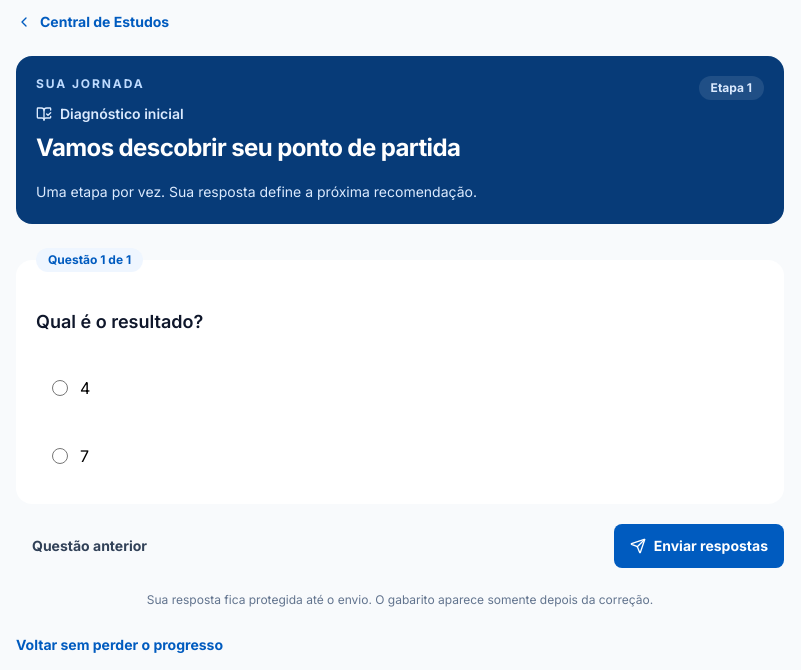
Scenario: GuidedJourneyPage › keeps the correction visible when the completed session is invalidated
Click the radio button labelled "7".
click(60, 456)  # box x1=52 y1=448 x2=68 y2=464
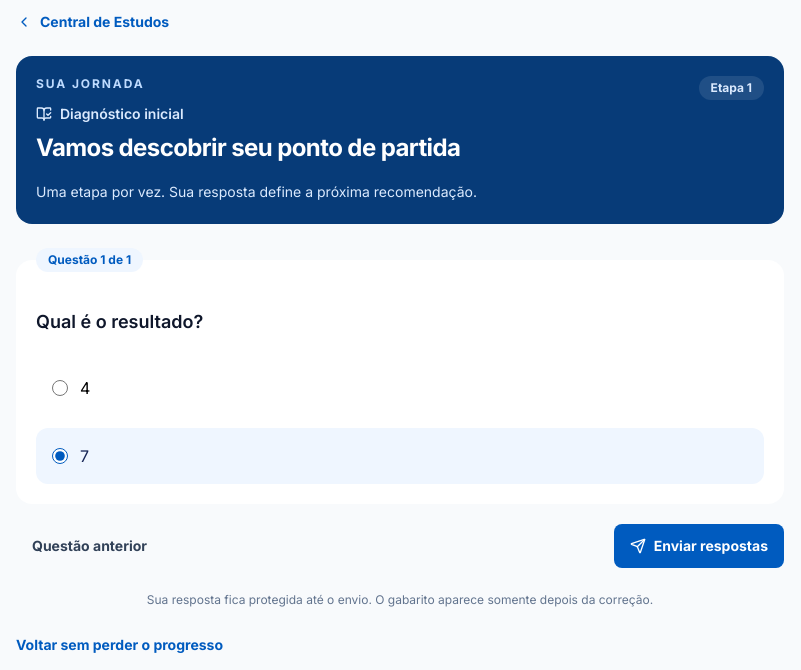
Click the button "Enviar respostas".
click(699, 546)  # box x1=614 y1=524 x2=784 y2=568
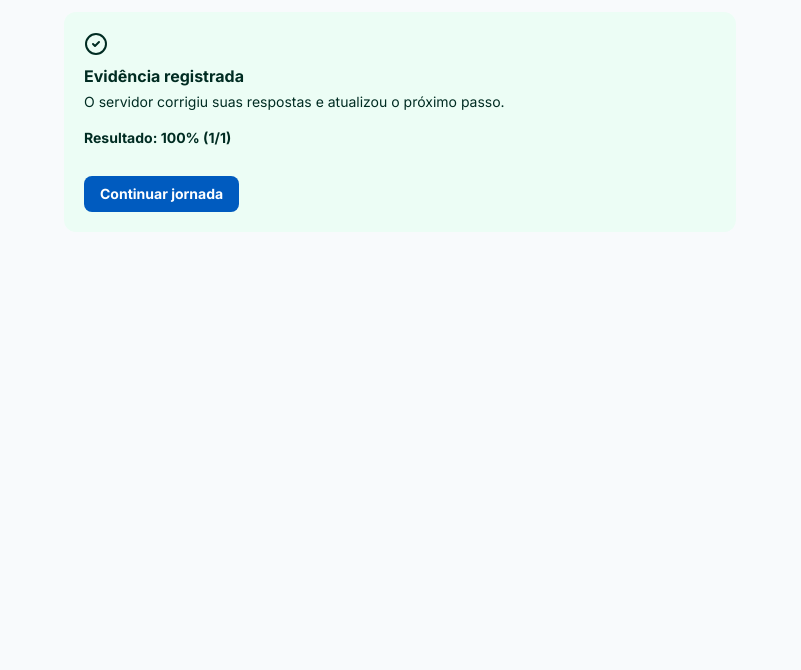
Check: the heading "Evidência registrada" is shown, box x1=84 y1=66 x2=244 y2=86
